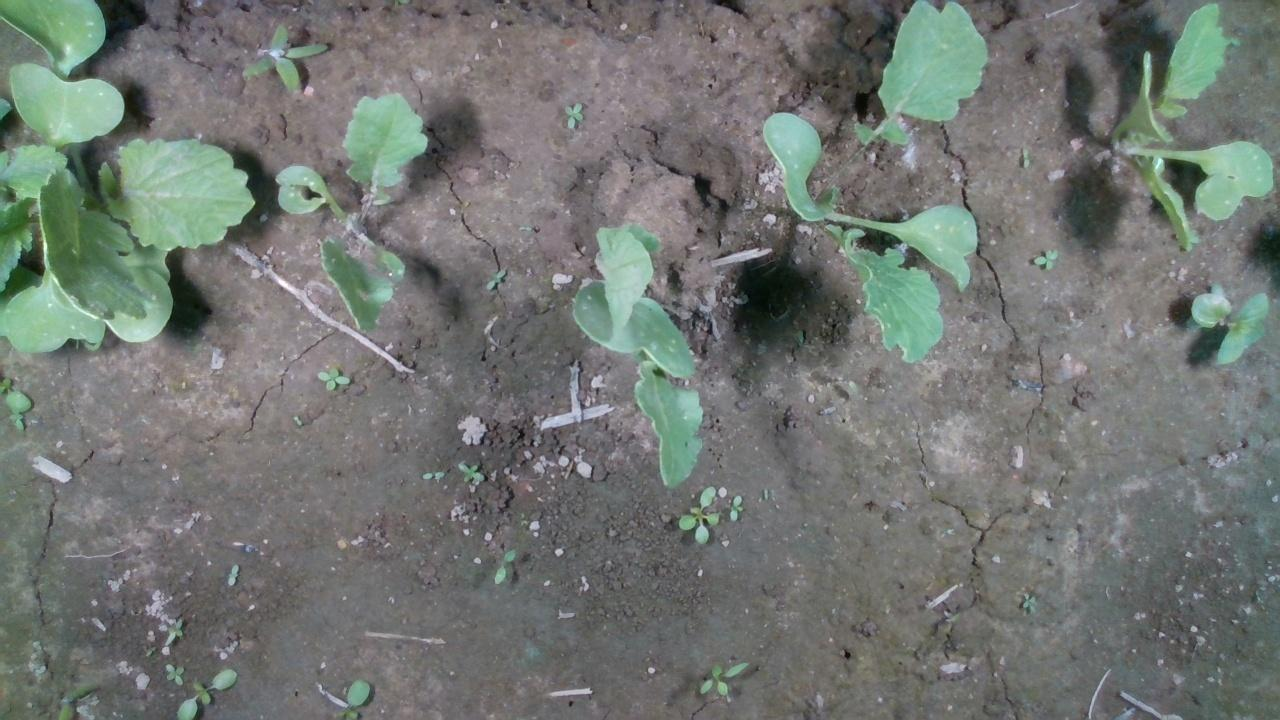weed: (240, 22, 329, 95), (674, 481, 720, 546), (698, 659, 750, 696), (491, 548, 515, 585), (315, 365, 350, 390), (1029, 248, 1058, 271), (163, 616, 184, 644), (563, 101, 583, 128), (456, 462, 483, 481), (163, 662, 184, 686), (728, 492, 743, 521), (1018, 589, 1036, 611), (1019, 142, 1030, 169), (226, 561, 238, 585), (419, 469, 445, 480)
